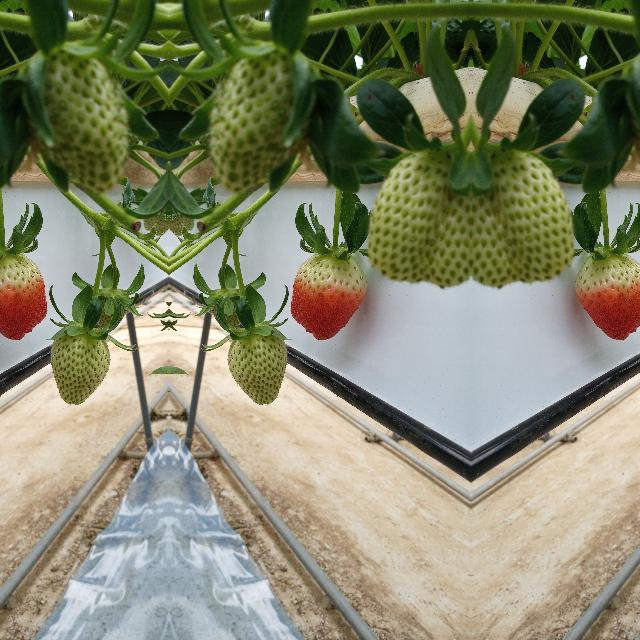Health_25: (471, 136, 572, 288), (370, 136, 470, 288), (208, 48, 310, 195), (27, 48, 128, 195), (212, 318, 290, 410), (46, 318, 124, 410)
Health_75: (289, 254, 367, 340), (574, 253, 640, 340), (0, 253, 47, 340)
